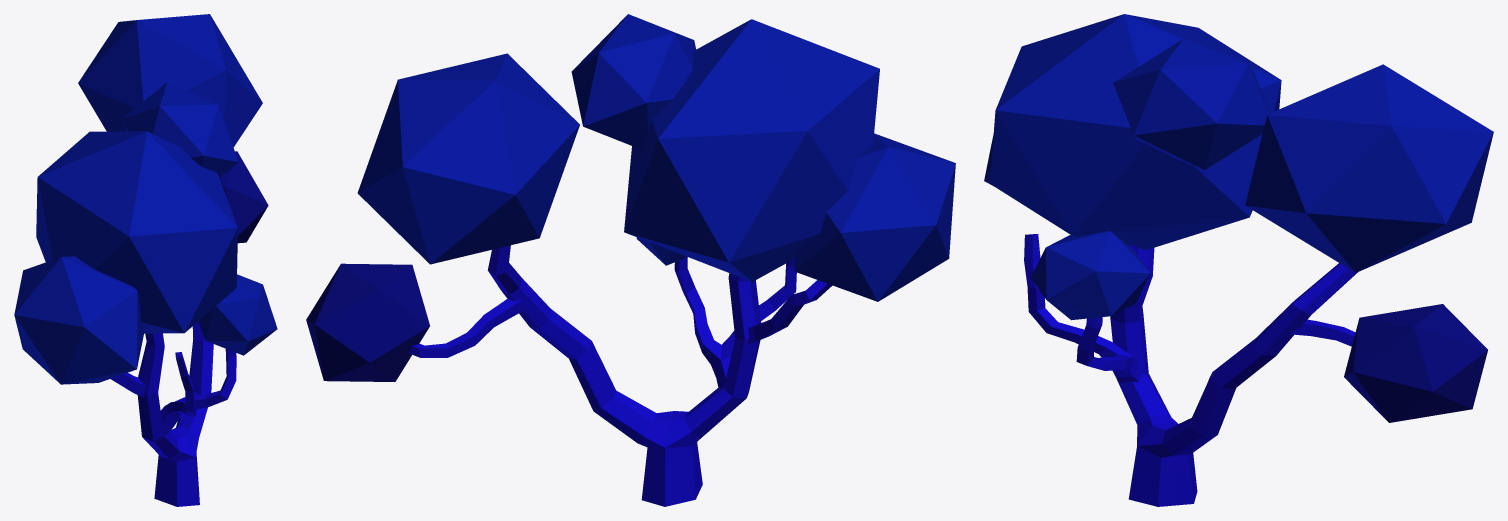
File: tree_lowpoly.obj
The picture shows the model from 3 angles, left to right: view 1: azimuth 30°, elevation 25°; view 2: azimuth 150°, elevation 25°; view 3: azimuth 270°, elevation 25°; orthographic projection. The views are drawn at different scales.
Visible parts, largest first — view 1: Tree_lp_11_Untitled; view 2: Tree_lp_11_Untitled; view 3: Tree_lp_11_Untitled.
Boxes of the visible parts, x1=… form: Tree_lp_11_Untitled: x1=14, y1=14, x2=277, y2=506; Tree_lp_11_Untitled: x1=306, y1=14, x2=955, y2=506; Tree_lp_11_Untitled: x1=984, y1=14, x2=1493, y2=506.
Bounding box in the file's own units: 1 × 1 × 1.
